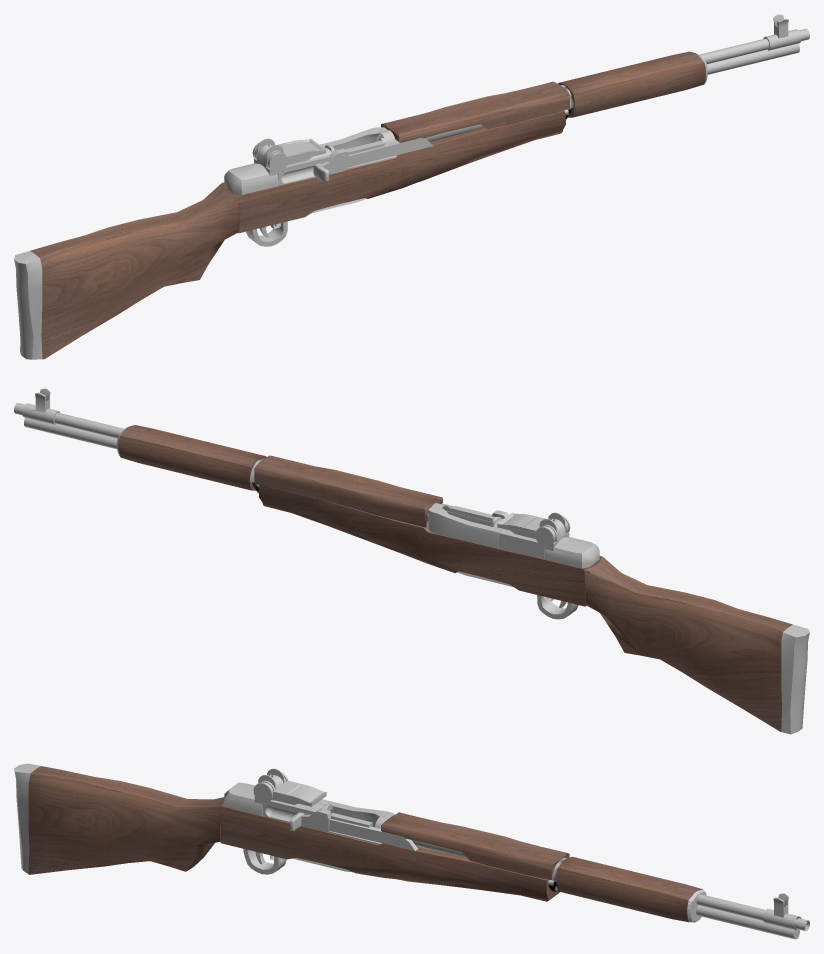
The model's file is rifle.fbx.
3 views of the same model, one above another, from view 1: azimuth 30°, elevation 25°; view 2: azimuth 150°, elevation 25°; view 3: azimuth 330°, elevation 25° (orthographic).
Parts seen in each view (by area): view 1: m1garand_body, m1garand_receiver_and_rearsight, m1garand_barrel, m1garand_operating_rod; view 2: m1garand_body, m1garand_receiver_and_rearsight, m1garand_barrel; view 3: m1garand_body, m1garand_receiver_and_rearsight, m1garand_barrel, m1garand_operating_rod.
Boxes of the visible parts, x1,y1,x2,y2 form: m1garand_body: (14,51,707,359); m1garand_receiver_and_rearsight: (224,124,483,194); m1garand_barrel: (699,14,809,74); m1garand_operating_rod: (313,138,433,182); m1garand_body: (117,425,809,734); m1garand_receiver_and_rearsight: (427,503,599,568); m1garand_barrel: (14,388,124,449); m1garand_body: (14,763,706,922); m1garand_receiver_and_rearsight: (224,768,466,857); m1garand_barrel: (696,893,809,939); m1garand_operating_rod: (290,808,417,850).
Size of the model in its own units: 111 by 20.82 by 6.6.
